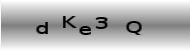3: (94, 16, 108, 30)
K: (61, 14, 78, 30)
Q: (124, 20, 144, 36)
d: (35, 21, 49, 36)
e: (78, 24, 92, 37)
